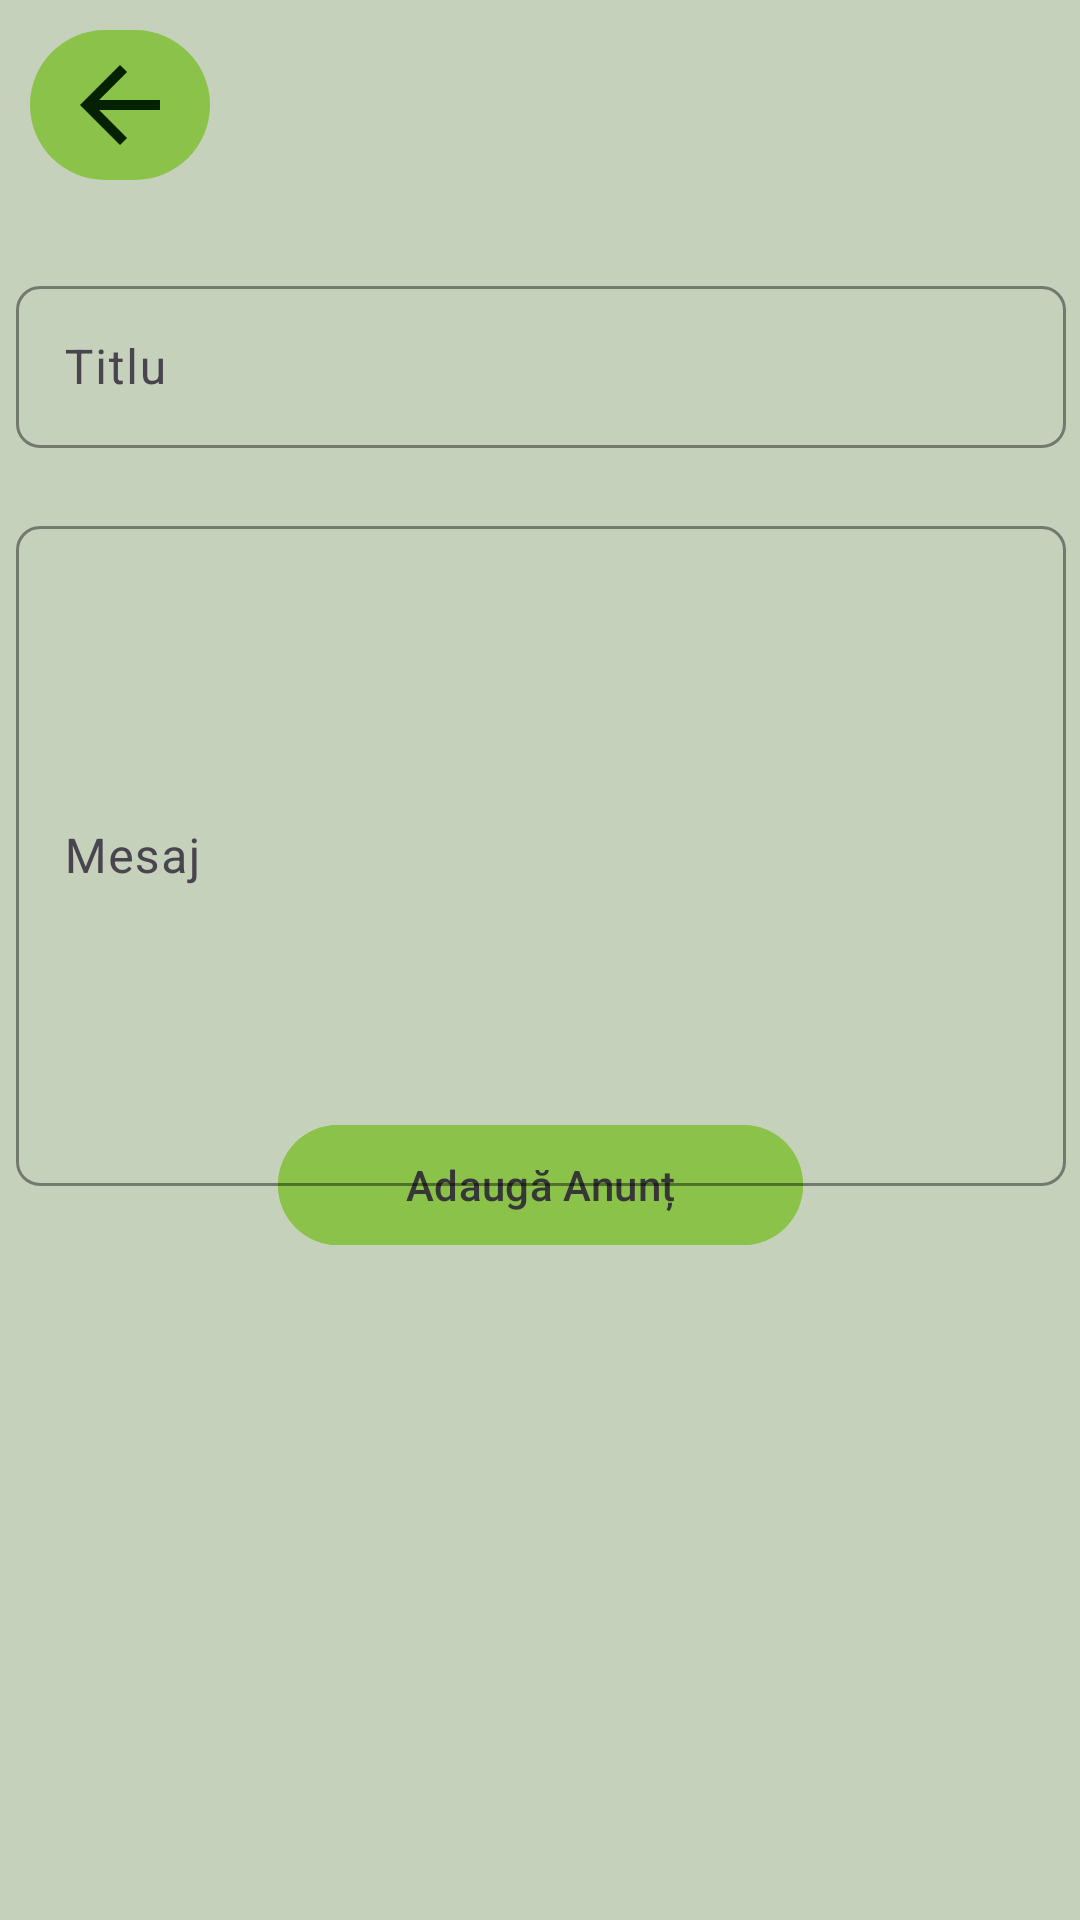

Screen size 1080x1920. Icon name, then its center in pixels as (x=x, y=y):
back arrow: (x=120, y=105)
